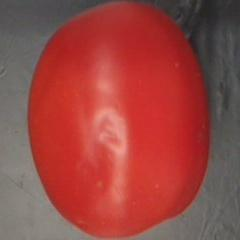unripe: (24, 0, 216, 240)
